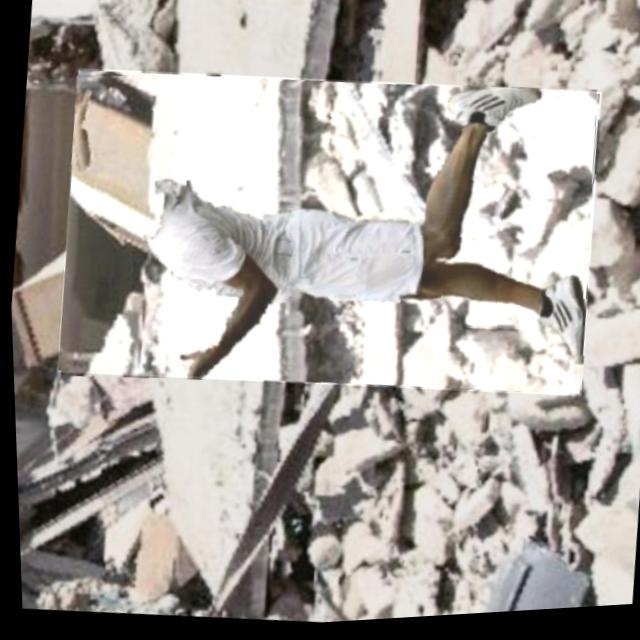Person in Rubble: (45, 43, 609, 426)
